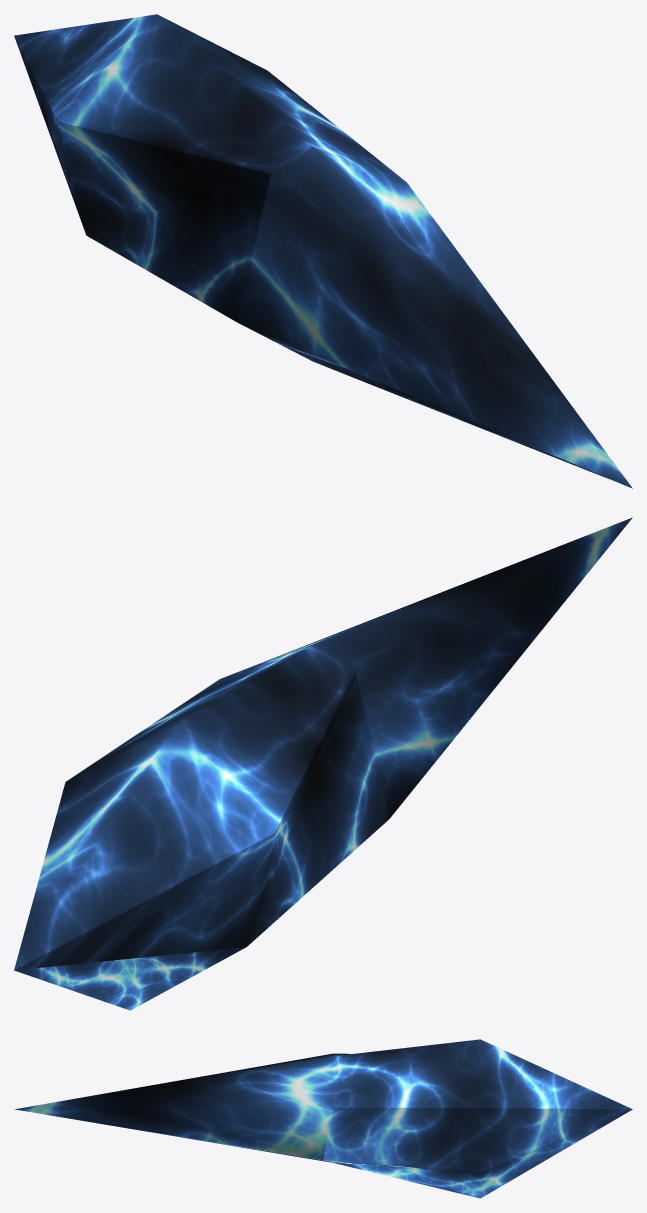
Rendered from skill_guantongbingren.FBX.
3 renders of one model, top to bottom at view 1: azimuth 30°, elevation 25°; view 2: azimuth 150°, elevation 25°; view 3: azimuth 270°, elevation 25°, orthographic. The views are drawn at different scales.
Parts seen in each view (by area): view 1: Pyramid34; view 2: Pyramid34; view 3: Pyramid34.
Part boxes in pixels (<box>): Pyramid34: <box>14,14,632,488</box>; Pyramid34: <box>14,517,632,1010</box>; Pyramid34: <box>15,1039,632,1198</box>.
Size of the model in its own units: 0.2999 by 1.48 by 0.3901.
1 material, 1 textured.
